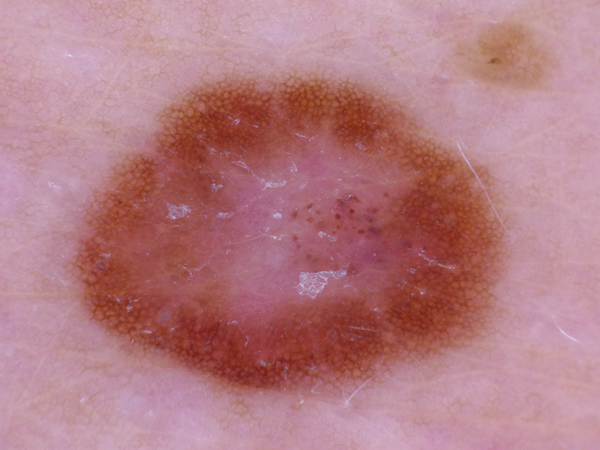Detected Lesion: (67, 72, 510, 396)
